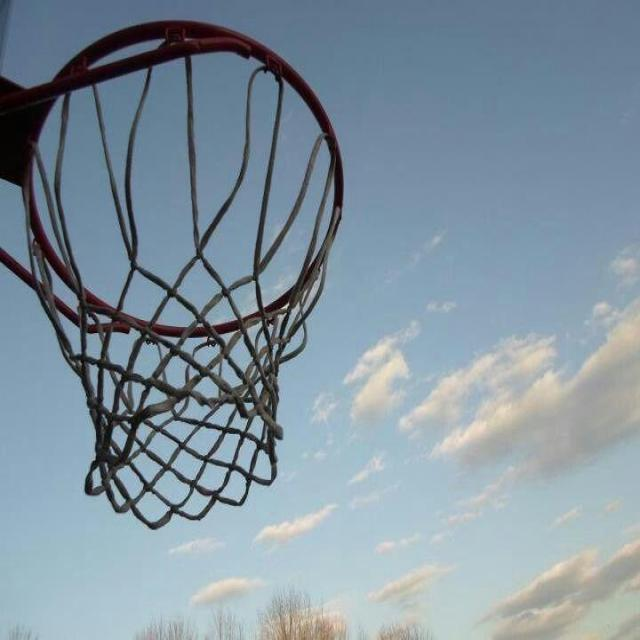hoop: (38, 9, 356, 528)
